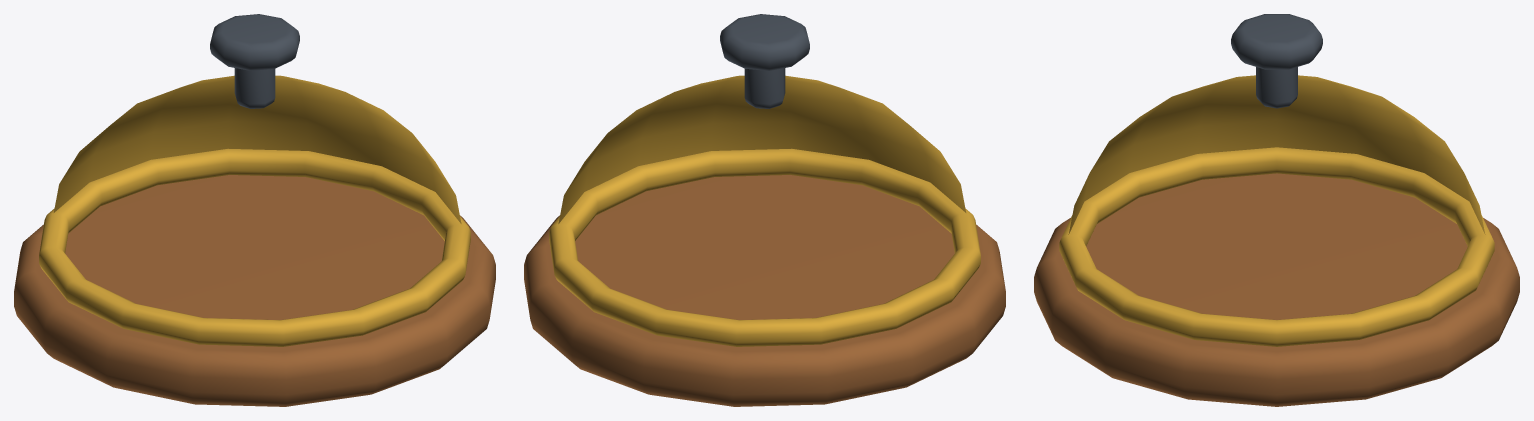
File: sino_balcao.glb
The picture shows the model from 3 angles, left to right: view 1: azimuth 30°, elevation 25°; view 2: azimuth 150°, elevation 25°; view 3: azimuth 270°, elevation 25°; orthographic projection.
Parts seen in each view (by area): view 1: base, aro, cupula, botao, pino; view 2: base, aro, cupula, botao, pino; view 3: base, aro, cupula, botao, pino.
Boxes of the visible parts, x1=… form: base: x1=14, y1=175, x2=495, y2=406; aro: x1=39, y1=148, x2=470, y2=346; cupula: x1=53, y1=75, x2=461, y2=223; botao: x1=210, y1=14, x2=299, y2=70; pino: x1=234, y1=68, x2=275, y2=108; base: x1=524, y1=175, x2=1005, y2=406; aro: x1=549, y1=148, x2=980, y2=346; cupula: x1=558, y1=75, x2=966, y2=223; botao: x1=720, y1=14, x2=809, y2=70; pino: x1=744, y1=68, x2=785, y2=108; base: x1=1034, y1=173, x2=1519, y2=406; aro: x1=1059, y1=147, x2=1494, y2=346; cupula: x1=1068, y1=75, x2=1485, y2=234; botao: x1=1231, y1=14, x2=1322, y2=69; pino: x1=1256, y1=67, x2=1297, y2=108.
Bounding box in the file's own units: 0.116 × 0.0745 × 0.116.
